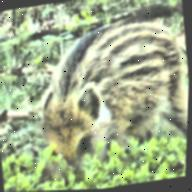boar: (28, 6, 192, 174)
